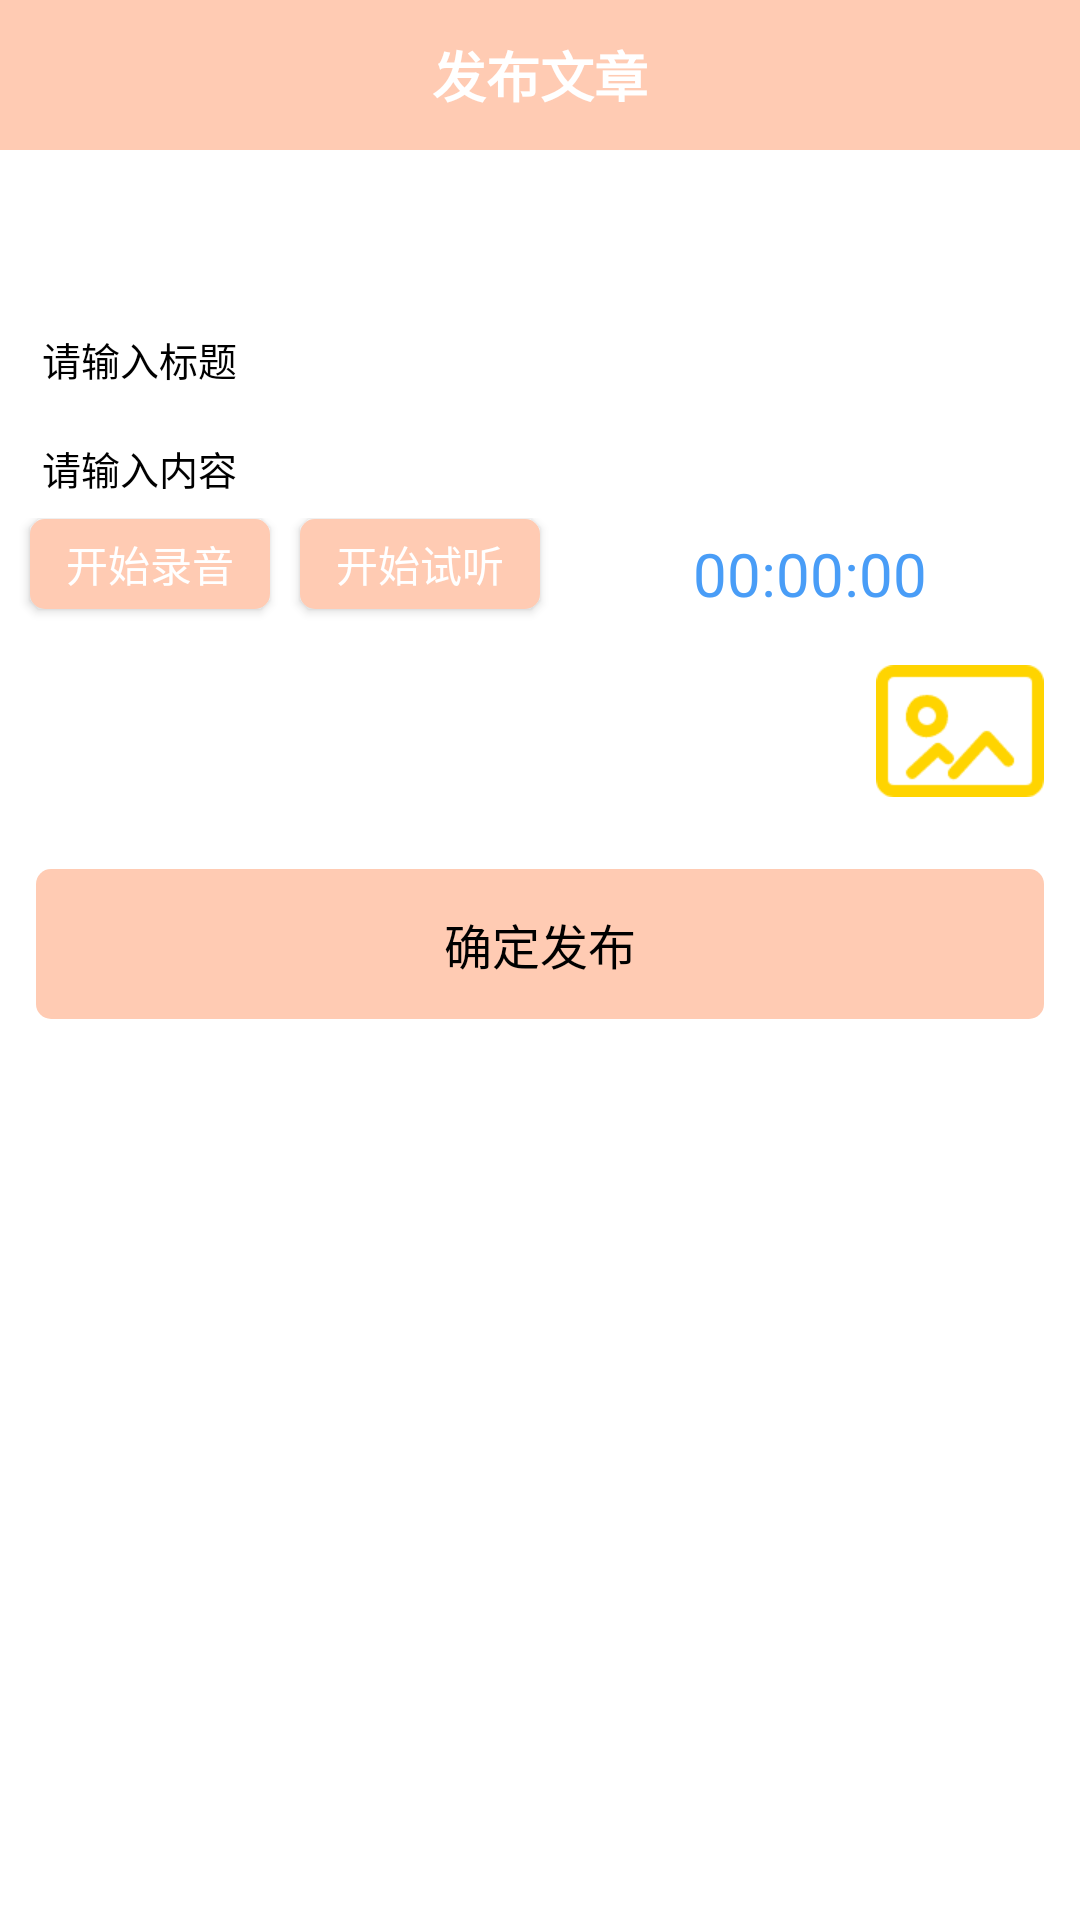

Locate icon controls on the screen. Image size 1080px x 1920px, boxes as (x1, y1, x2, y2).
select: (876, 665, 1044, 797)
